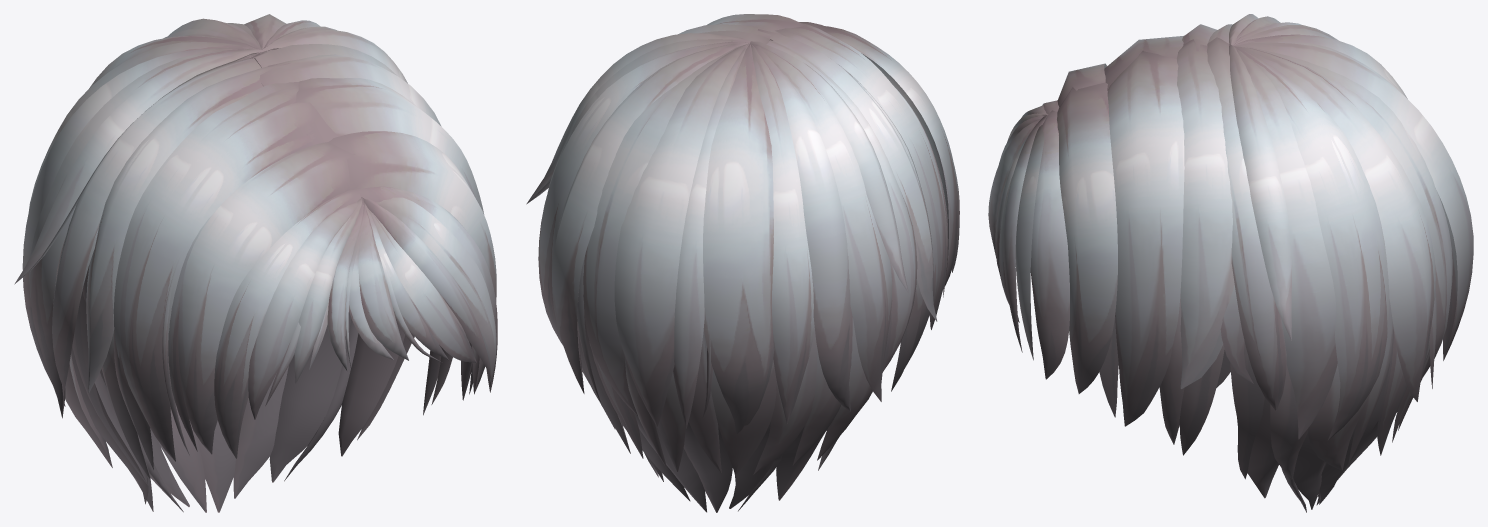
The model's file is vroid_hair_m1.glb.
3 renders of one model, left to right at view 1: azimuth 30°, elevation 25°; view 2: azimuth 150°, elevation 25°; view 3: azimuth 270°, elevation 25°, orthographic. The views are drawn at different scales.
Parts seen in each view (by area): view 1: hair; view 2: hair; view 3: hair.
Part boxes in pixels (left/top/right/bottom): hair: left=14, top=14, right=497, bottom=512; hair: left=526, top=14, right=959, bottom=512; hair: left=988, top=14, right=1473, bottom=512.
Size of the model in its own units: 0.2086 by 0.2302 by 0.219.
2 materials, 2 textured.
